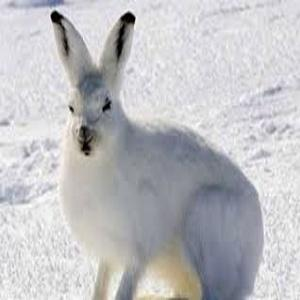rabbit: (50, 10, 263, 299)
